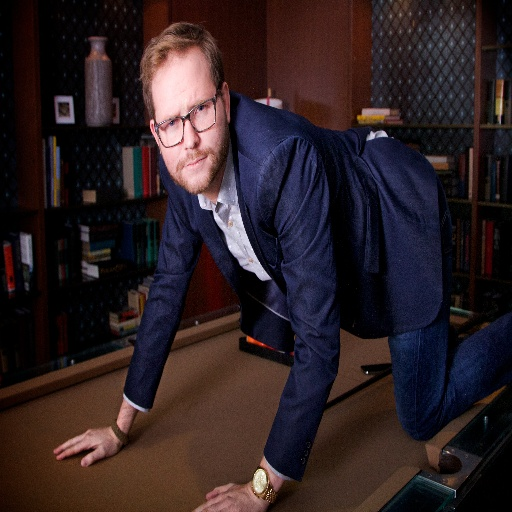hand: (58, 411, 134, 477), (193, 481, 264, 511)
